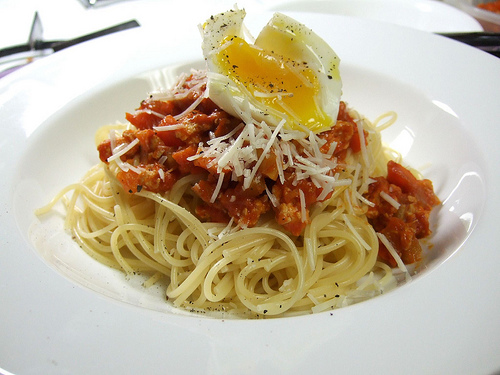egg: (192, 6, 352, 129)
